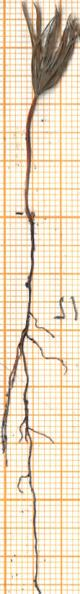flower: (0, 0, 80, 99)
root: (0, 217, 72, 594)
stem: (18, 102, 49, 218)
